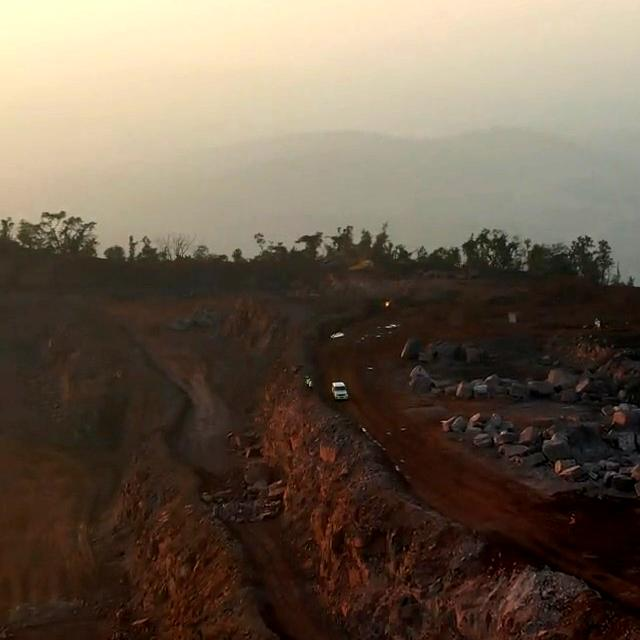car: (331, 382, 349, 401)
person: (303, 374, 313, 389)
